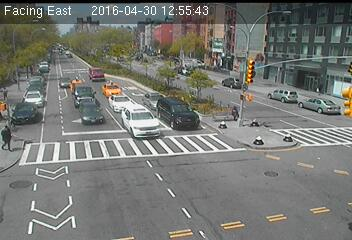neg: (165, 177, 205, 230), (271, 166, 310, 218), (54, 176, 87, 220), (159, 100, 178, 126), (103, 63, 122, 88), (175, 63, 193, 87), (202, 38, 220, 61), (67, 108, 84, 131), (33, 101, 50, 124), (111, 21, 128, 43), (288, 71, 305, 93), (97, 99, 113, 121), (40, 15, 56, 36), (56, 66, 71, 85), (263, 84, 277, 102), (126, 124, 139, 142), (251, 50, 264, 68), (224, 73, 236, 89), (187, 20, 197, 34), (139, 68, 149, 81), (158, 58, 168, 71), (34, 66, 43, 78), (137, 99, 146, 111)
pos: (227, 102, 245, 126)
